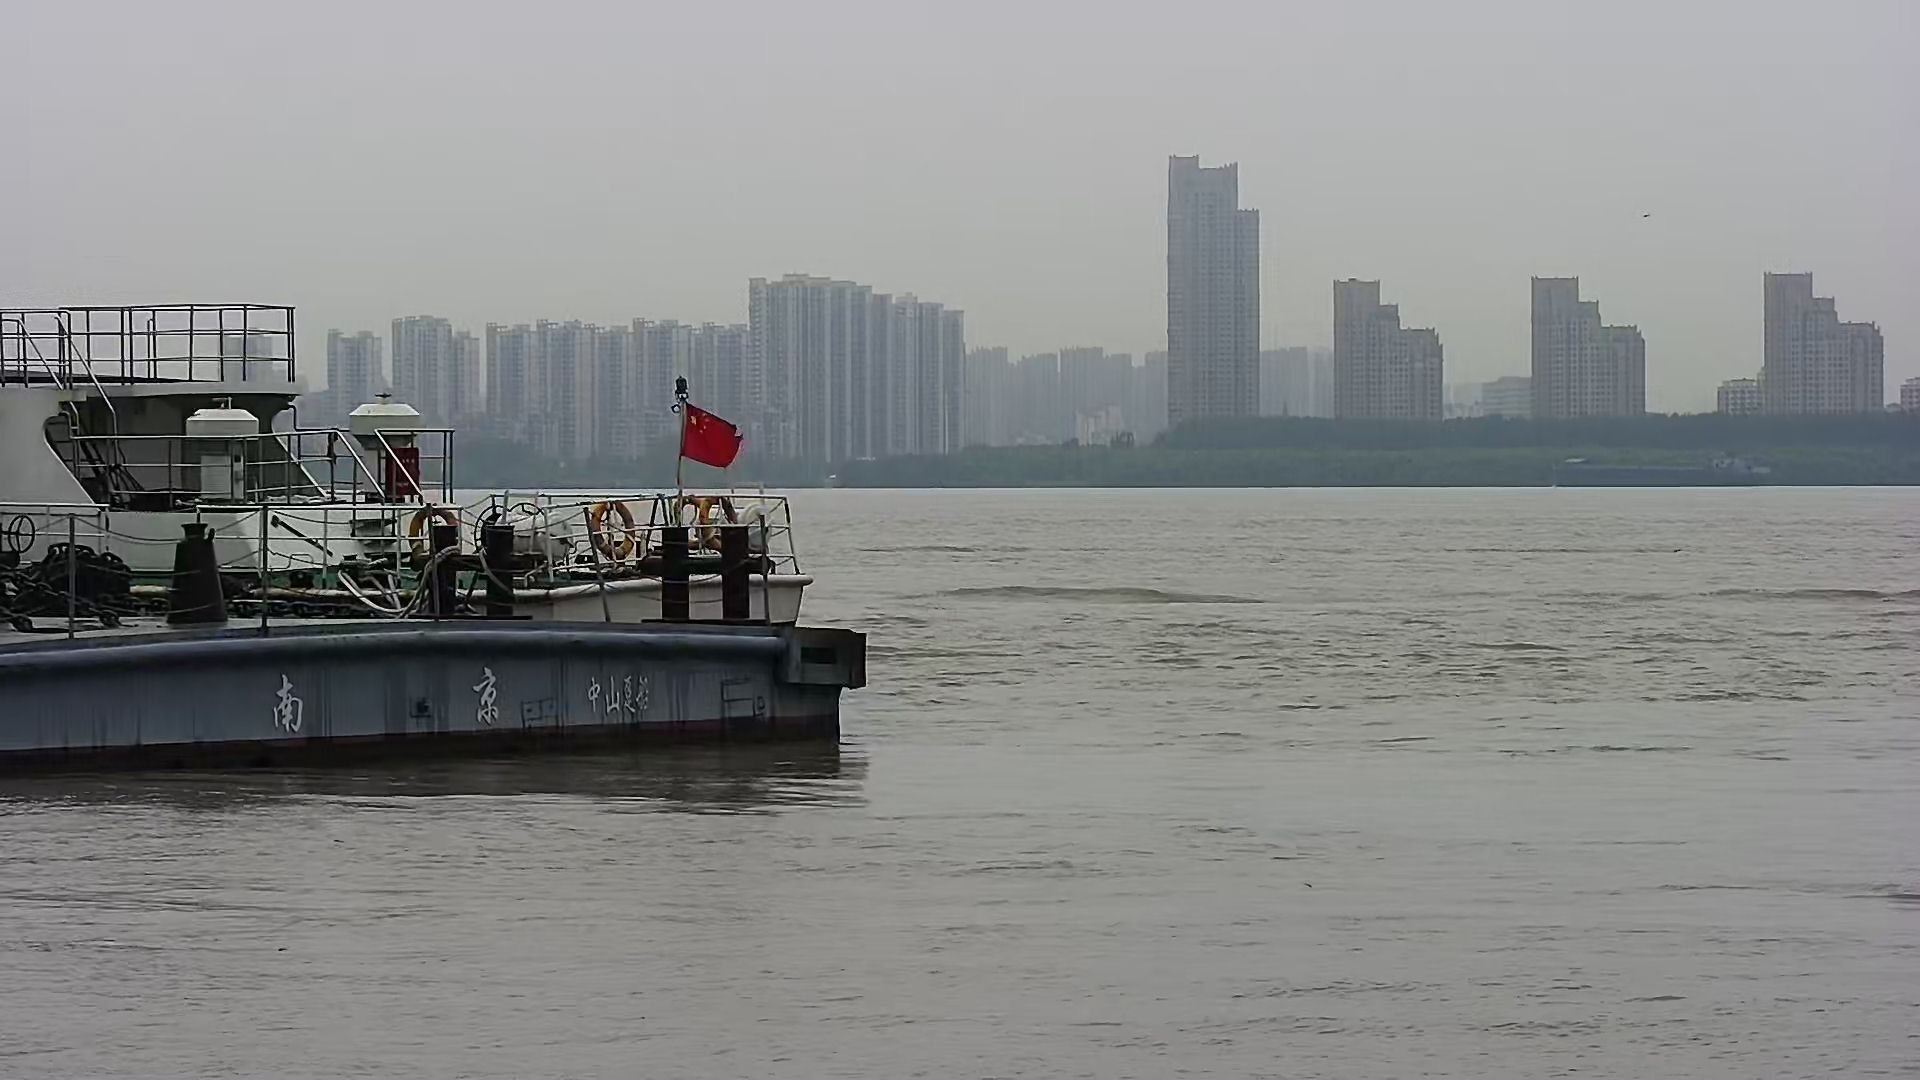ship: (1, 305, 868, 777)
